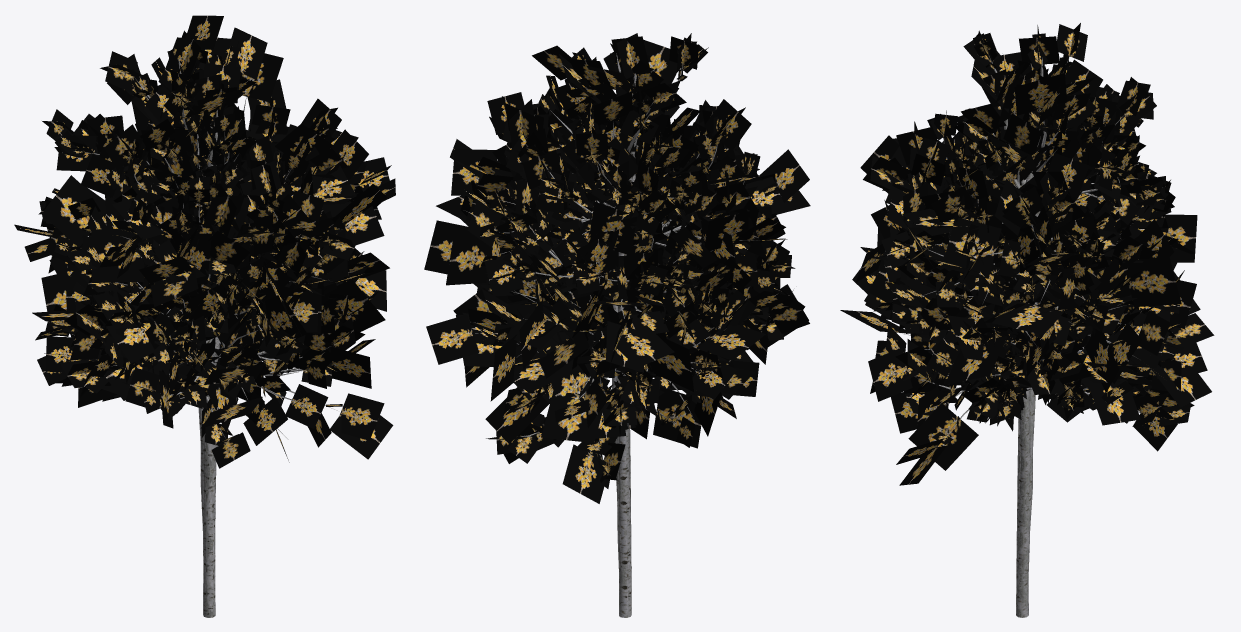
The model's file is aspens.glb.
3 views of the same model, side by side, from view 1: azimuth 30°, elevation 25°; view 2: azimuth 150°, elevation 25°; view 3: azimuth 270°, elevation 25° (orthographic). The views are drawn at different scales.
Parts seen in each view (by area): view 1: aspen0_far_leaves, aspen1_far_leaves, aspen1_leaves, aspen0_leaves, aspen2_leaves, aspen2_far_leaves, aspen1_bark, aspen2_bark, aspen2_far_bark, aspen0_bark; view 2: aspen1_far_leaves, aspen1_leaves, aspen0_far_leaves, aspen2_far_leaves, aspen0_leaves, aspen2_leaves, aspen1_bark, aspen1_far_bark, aspen0_bark; view 3: aspen0_far_leaves, aspen0_leaves, aspen1_leaves, aspen1_far_leaves, aspen2_far_leaves, aspen2_leaves, aspen0_bark, aspen1_bark, aspen1_far_bark, aspen0_far_bark.
Boxes of the visible parts, x1=… form: aspen0_far_leaves: x1=14, y1=37, x2=393, y2=462; aspen1_far_leaves: x1=24, y1=15, x2=381, y2=400; aspen1_leaves: x1=38, y1=30, x2=360, y2=377; aspen0_leaves: x1=45, y1=63, x2=378, y2=377; aspen2_leaves: x1=60, y1=109, x2=354, y2=419; aspen2_far_leaves: x1=35, y1=84, x2=395, y2=468; aspen1_bark: x1=85, y1=59, x2=255, y2=617; aspen2_bark: x1=138, y1=134, x2=287, y2=573; aspen2_far_bark: x1=137, y1=150, x2=332, y2=529; aspen0_bark: x1=115, y1=110, x2=330, y2=556; aspen1_far_leaves: x1=426, y1=39, x2=810, y2=442; aspen1_leaves: x1=473, y1=33, x2=790, y2=399; aspen0_far_leaves: x1=446, y1=54, x2=785, y2=438; aspen2_far_leaves: x1=424, y1=105, x2=808, y2=503; aspen0_leaves: x1=467, y1=43, x2=760, y2=414; aspen2_leaves: x1=463, y1=110, x2=809, y2=488; aspen1_bark: x1=543, y1=59, x2=744, y2=617; aspen1_far_bark: x1=475, y1=53, x2=763, y2=617; aspen0_bark: x1=499, y1=112, x2=699, y2=617; aspen0_far_leaves: x1=840, y1=59, x2=1214, y2=485; aspen0_leaves: x1=863, y1=62, x2=1156, y2=423; aspen1_leaves: x1=907, y1=23, x2=1175, y2=431; aspen1_far_leaves: x1=860, y1=44, x2=1197, y2=425; aspen2_far_leaves: x1=852, y1=68, x2=1211, y2=407; aspen2_leaves: x1=864, y1=105, x2=1191, y2=451; aspen0_bark: x1=935, y1=119, x2=1088, y2=578; aspen1_bark: x1=967, y1=55, x2=1138, y2=617; aspen1_far_bark: x1=958, y1=57, x2=1172, y2=615; aspen0_far_bark: x1=902, y1=129, x2=1171, y2=529.
Bounding box in the file's own units: 10.97 × 19.18 × 11.28.
Materials: 2 (2 with a texture image).
